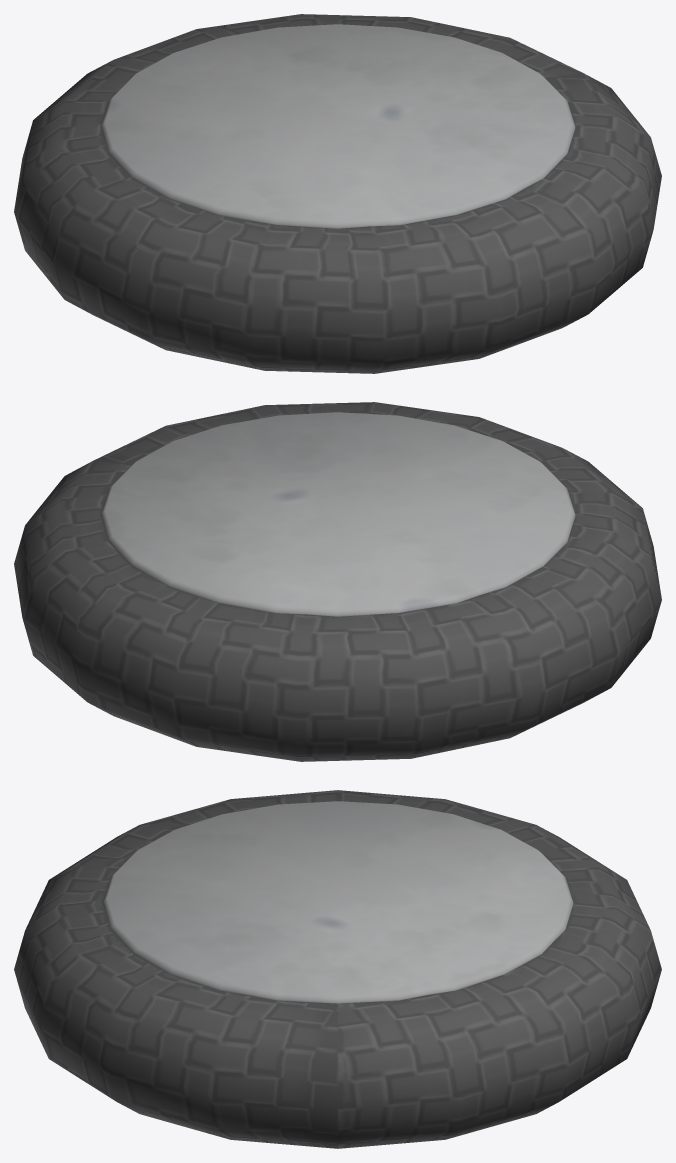
The model's file is PoolTable.glb.
3 views of the same model, one above another, from view 1: azimuth 30°, elevation 25°; view 2: azimuth 150°, elevation 25°; view 3: azimuth 270°, elevation 25° (orthographic).
Visible parts, largest first — view 1: poolTable_low; view 2: poolTable_low; view 3: poolTable_low.
Boxes of the visible parts, x1=… form: poolTable_low: x1=14, y1=14, x2=661, y2=373; poolTable_low: x1=14, y1=402, x2=661, y2=761; poolTable_low: x1=14, y1=790, x2=661, y2=1148.
Bounding box in the file's own units: 2.09 × 0.4861 × 2.09.
Materials: 2 (2 with a texture image).
